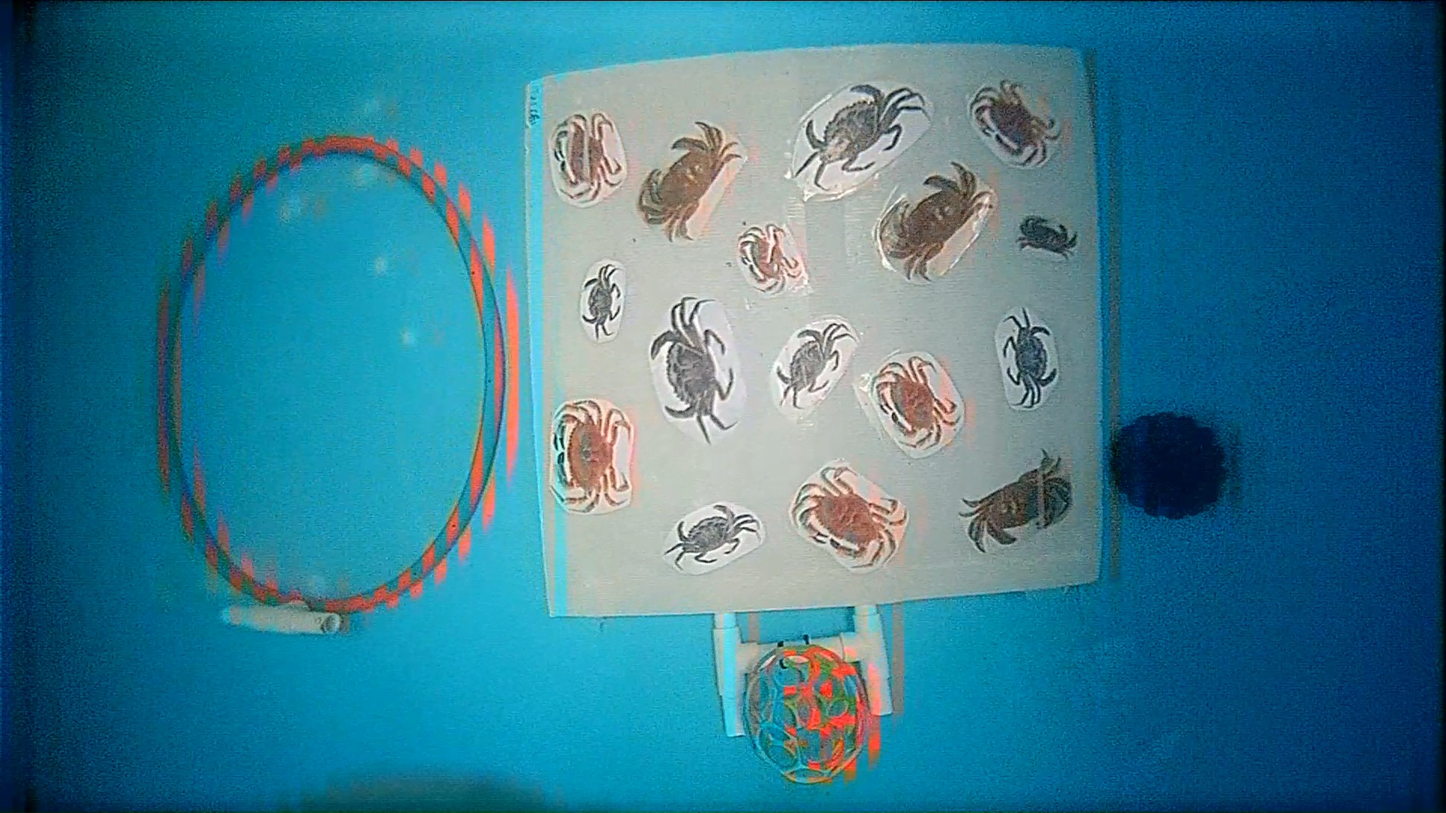GreenCrab: (797, 84, 923, 184), (650, 297, 735, 443), (778, 322, 851, 407), (664, 504, 758, 565), (1002, 309, 1057, 407)
